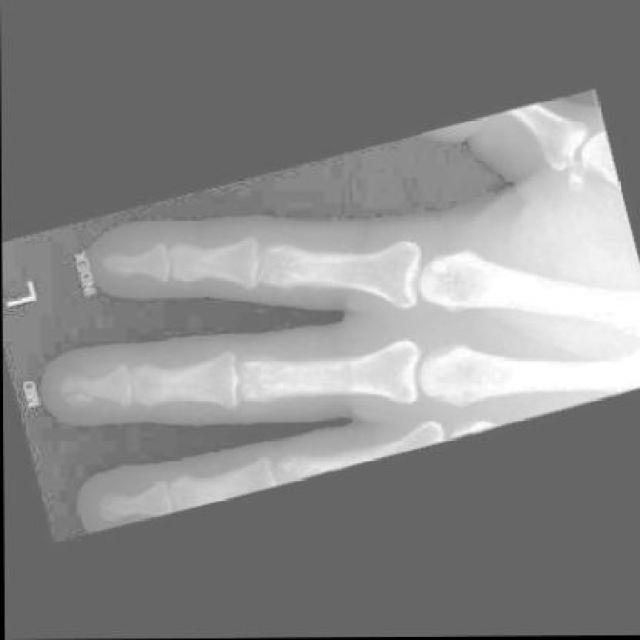Fracture: (50, 374, 90, 414)
